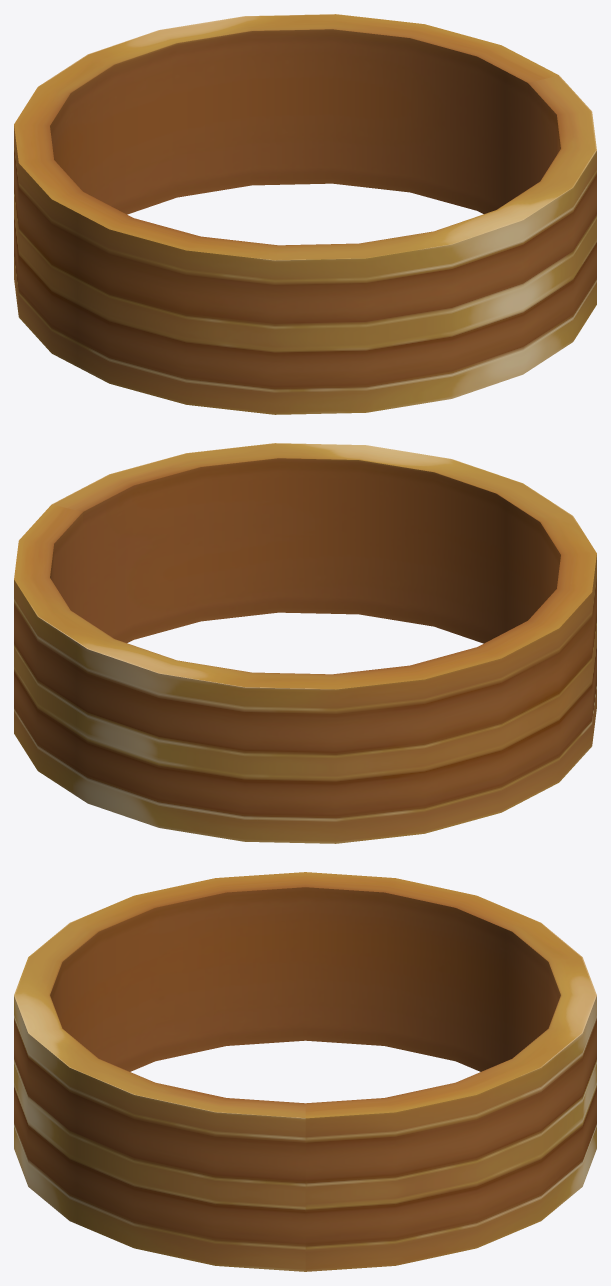
Rendered from ring_copper_15.fbx.
3 views of the same model, one above another, from view 1: azimuth 30°, elevation 25°; view 2: azimuth 150°, elevation 25°; view 3: azimuth 270°, elevation 25° (orthographic).
Visible parts, largest first — view 1: ring_copper_15; view 2: ring_copper_15; view 3: ring_copper_15.
Boxes of the visible parts, left/top/right/bottom form: ring_copper_15: left=14, top=14, right=596, bottom=414; ring_copper_15: left=14, top=443, right=596, bottom=843; ring_copper_15: left=14, top=872, right=596, bottom=1271.
Size of the model in its own units: 2.04 by 0.594 by 2.04.
